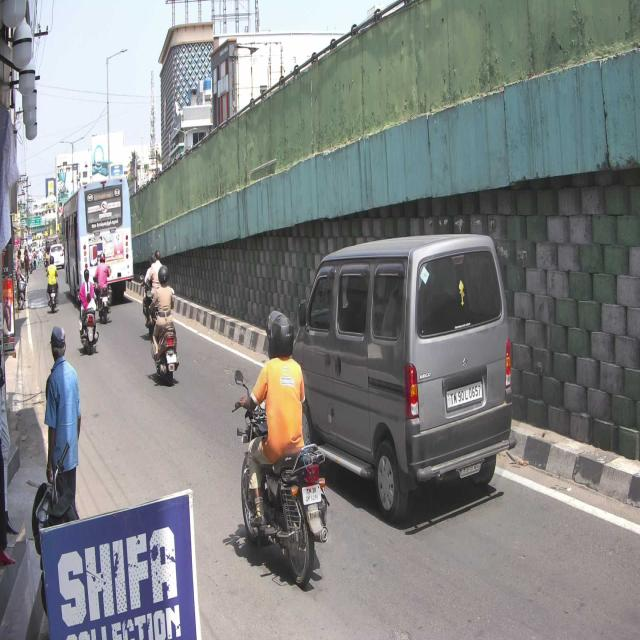single_rider: (234, 309, 328, 584)
